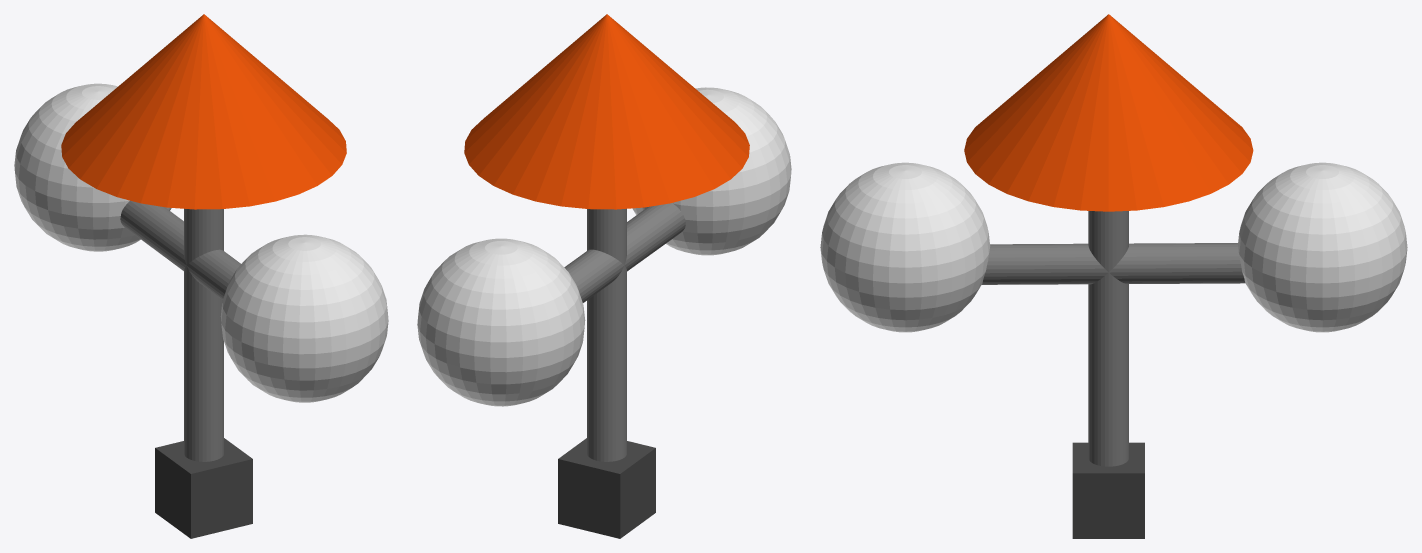
The model's file is Lamp.fbx.
3 views of the same model, side by side, from view 1: azimuth 30°, elevation 25°; view 2: azimuth 150°, elevation 25°; view 3: azimuth 270°, elevation 25° (orthographic).
Parts seen in each view (by area): view 1: Cone, Sphere.001, Sphere, Cylinder, Cube, Cylinder.001; view 2: Cone, Sphere, Sphere.001, Cylinder, Cube, Cylinder.001; view 3: Cone, Sphere.001, Sphere, Cylinder, Cylinder.001, Cube.
Part boxes in pixels (bbox=[...]): Cone: bbox=[61, 14, 346, 209]; Sphere.001: bbox=[220, 234, 388, 402]; Sphere: bbox=[14, 83, 171, 251]; Cylinder: bbox=[184, 208, 223, 461]; Cube: bbox=[155, 438, 252, 538]; Cylinder.001: bbox=[120, 200, 240, 299]; Cone: bbox=[464, 14, 749, 209]; Sphere: bbox=[417, 238, 585, 406]; Sphere.001: bbox=[632, 87, 791, 255]; Cylinder: bbox=[587, 208, 626, 461]; Cube: bbox=[558, 438, 655, 538]; Cylinder.001: bbox=[564, 203, 685, 302]; Cone: bbox=[964, 14, 1253, 211]; Sphere.001: bbox=[820, 162, 990, 332]; Sphere: bbox=[1238, 162, 1407, 332]; Cylinder: bbox=[1088, 211, 1128, 466]; Cylinder.001: bbox=[982, 243, 1245, 284]; Cube: bbox=[1072, 442, 1144, 538].
Bounding box in the file's own units: 2553 × 4963 × 5181.
